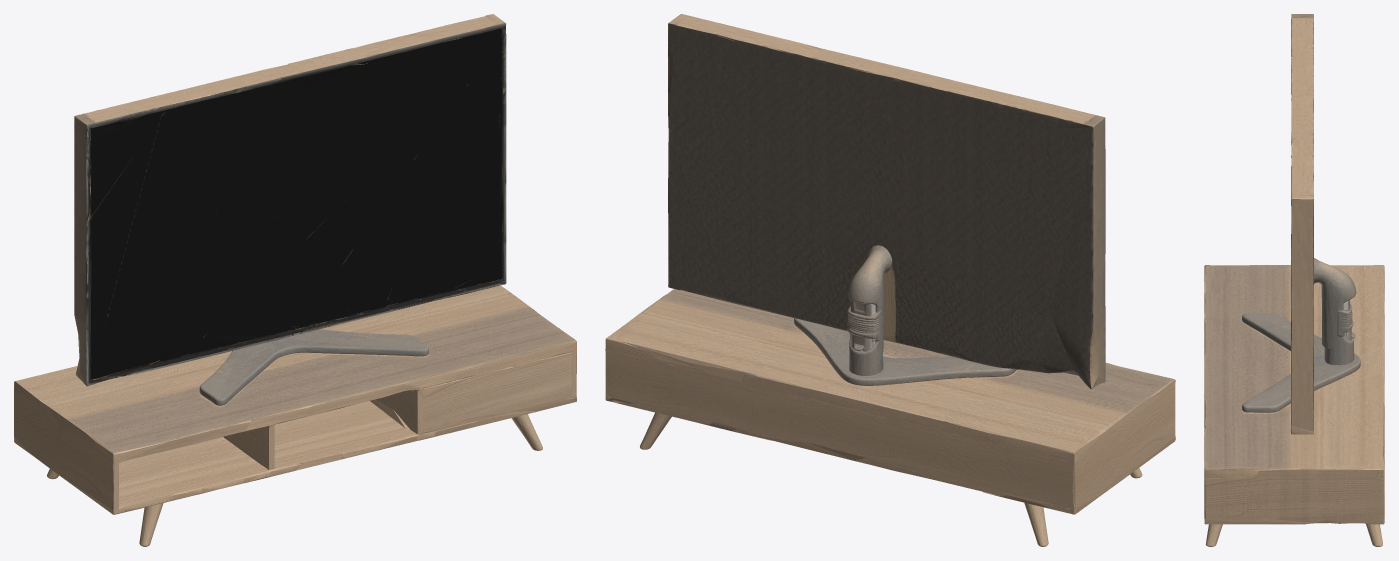
3 renders of one model, left to right at view 1: azimuth 30°, elevation 25°; view 2: azimuth 150°, elevation 25°; view 3: azimuth 270°, elevation 25°, orthographic. The views are drawn at different scales.
Size of the model in its own units: 1.9 by 1.53 by 0.7092.
1 material, 1 textured.
